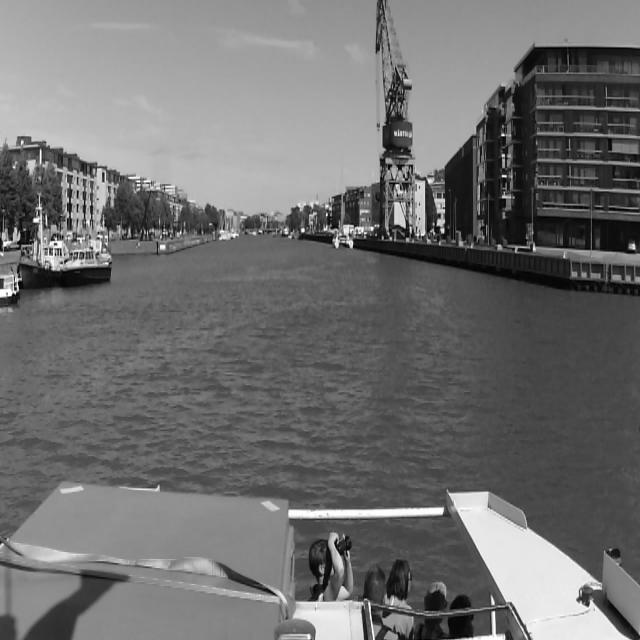ship: (330, 132, 356, 254), (17, 239, 73, 282), (61, 247, 111, 283), (328, 209, 356, 245), (0, 275, 21, 304)
